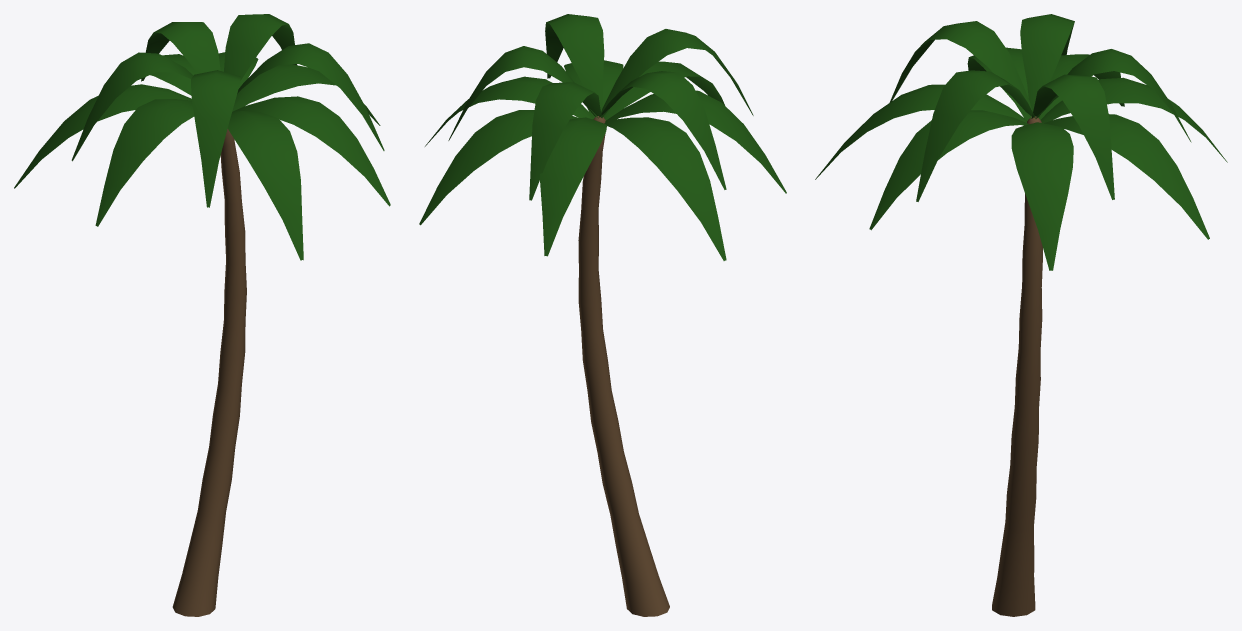
The model's file is survival_palm.glb.
The picture shows the model from 3 angles, left to right: view 1: azimuth 30°, elevation 25°; view 2: azimuth 150°, elevation 25°; view 3: azimuth 270°, elevation 25°; orthographic projection. The views are drawn at different scales.
Visible parts, largest first — view 1: PalmFronds, PalmTrunk; view 2: PalmFronds, PalmTrunk; view 3: PalmFronds, PalmTrunk.
Boxes of the visible parts, left/top/right/bottom form: PalmFronds: left=14, top=14, right=390, bottom=260; PalmTrunk: left=172, top=129, right=246, bottom=616; PalmFronds: left=419, top=14, right=786, bottom=260; PalmTrunk: left=578, top=116, right=669, bottom=616; PalmFronds: left=815, top=14, right=1227, bottom=270; PalmTrunk: left=992, top=116, right=1042, bottom=616.
Bounding box in the file's own units: 6.26 × 9.93 × 6.38.
